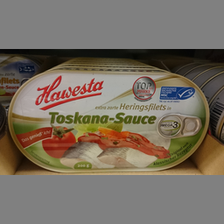fish: (8, 68, 210, 173)
